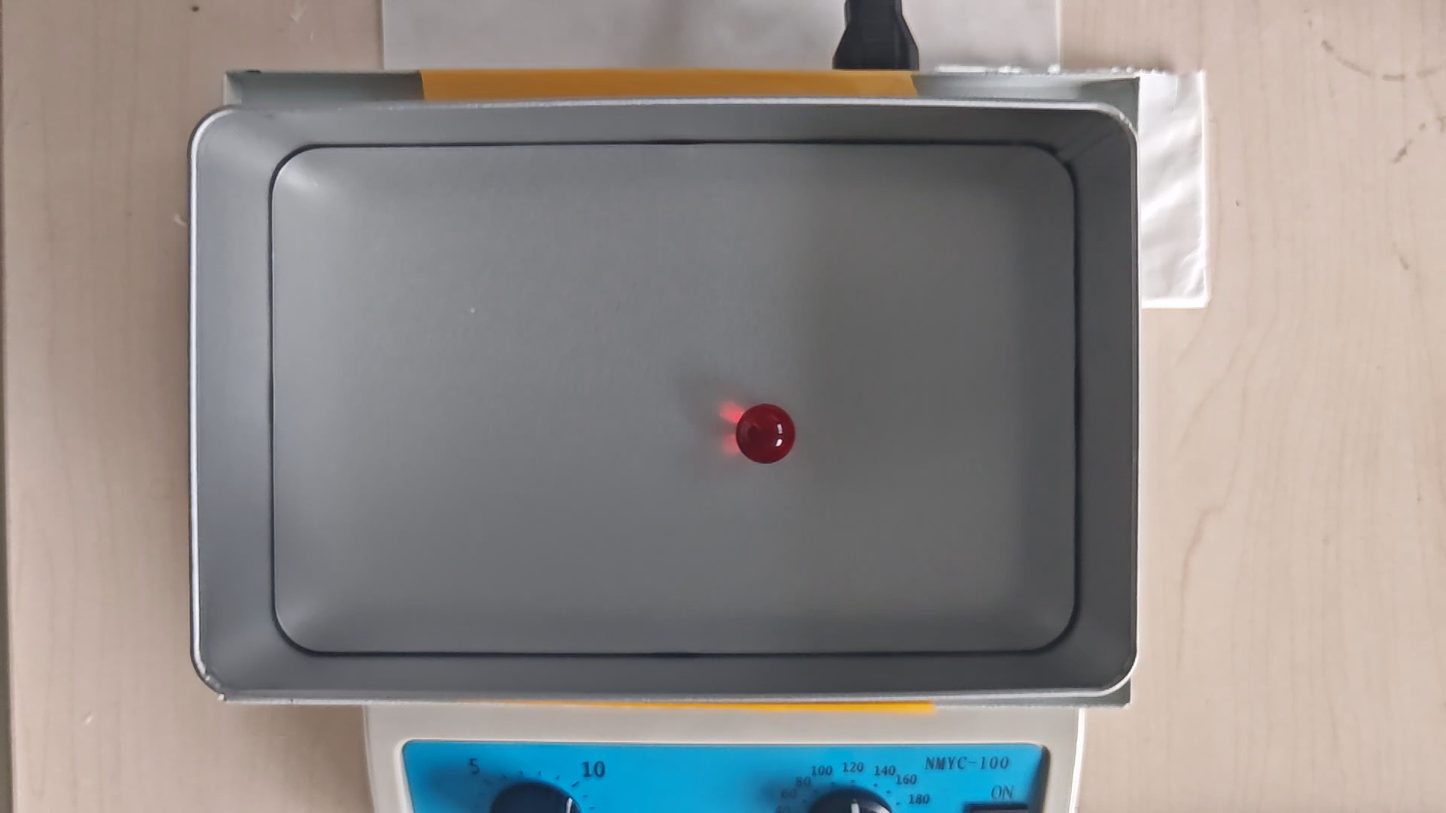ball: (736, 404, 798, 465)
container: (268, 146, 1079, 656)
